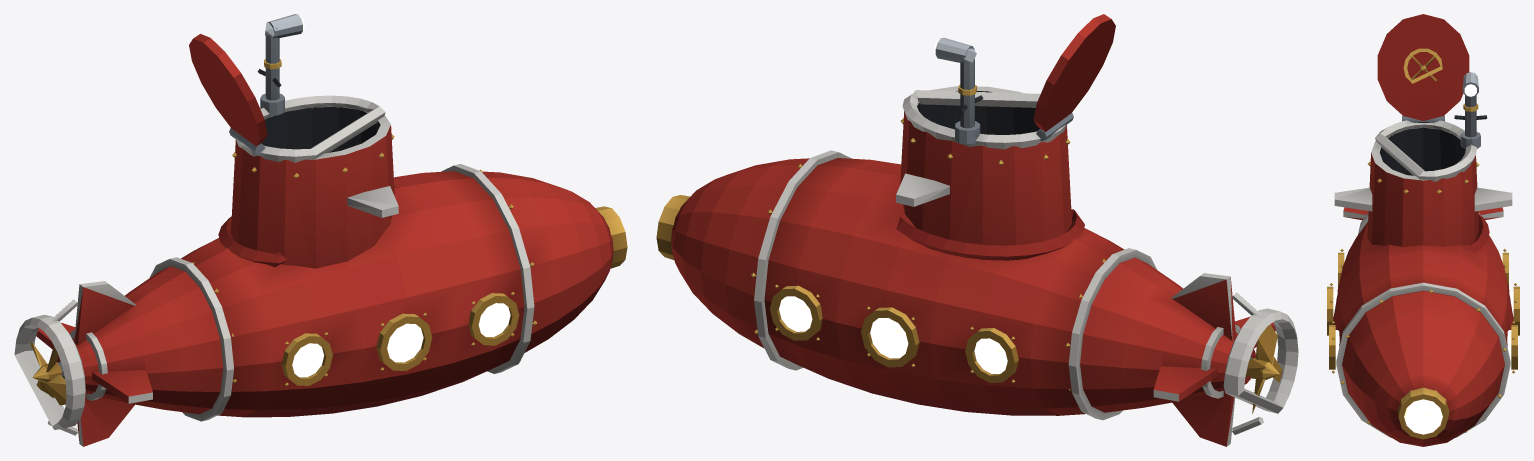
Rendered from mt_submarine_red.glb.
3 renders of one model, left to right at view 1: azimuth 30°, elevation 25°; view 2: azimuth 150°, elevation 25°; view 3: azimuth 270°, elevation 25°, orthographic. The views are drawn at different scales.
Parts seen in each view (by area): view 1: base, periscope_m, fins_m, prop_m; view 2: base, periscope_m, fins_m, prop_m; view 3: base, periscope_m, fins_m.
Part boxes in pixels (x1,y1,x2,y2): base: [14, 34, 627, 446]; periscope_m: [257, 14, 304, 115]; fins_m: [36, 322, 152, 403]; prop_m: [30, 342, 66, 405]; base: [656, 14, 1298, 446]; periscope_m: [934, 37, 983, 144]; fins_m: [1153, 316, 1275, 401]; prop_m: [1245, 324, 1282, 413]; base: [1327, 14, 1519, 446]; periscope_m: [1454, 72, 1487, 148]; fins_m: [1343, 207, 1503, 220].
Bounding box in the file's own units: 1.03 × 0.6694 × 0.3608.
